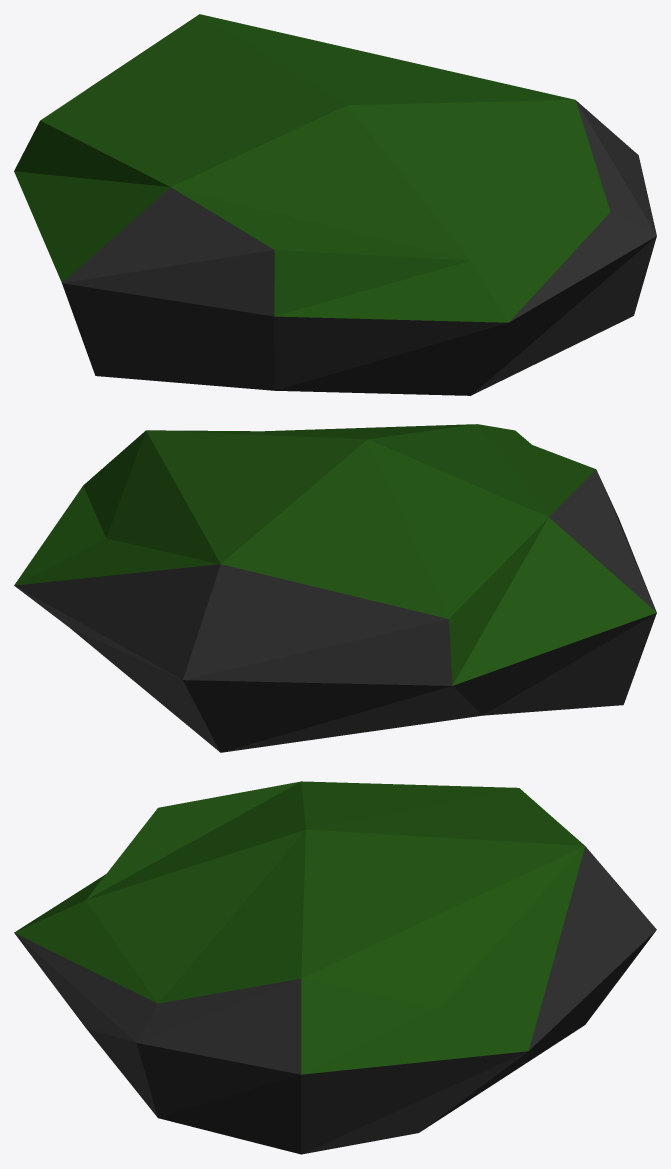
File: Stone2_3.fbx
3 views of the same model, one above another, from view 1: azimuth 30°, elevation 25°; view 2: azimuth 150°, elevation 25°; view 3: azimuth 270°, elevation 25° (orthographic). The views are drawn at different scales.
Visible parts, largest first — view 1: Stone2_3; view 2: Stone2_3; view 3: Stone2_3.
Part boxes in pixels (x1,y1,x2,y2): Stone2_3: (14, 14, 656, 395); Stone2_3: (14, 424, 656, 752); Stone2_3: (14, 781, 656, 1154).
Size of the model in its own units: 103 by 37.33 by 105.
